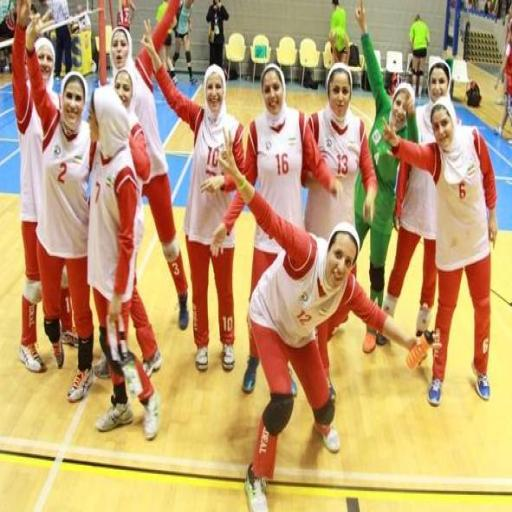person: (221, 134, 417, 510), (383, 96, 497, 405), (143, 24, 244, 371), (26, 14, 93, 401), (88, 86, 160, 439), (111, 27, 188, 329), (356, 0, 417, 305), (245, 65, 342, 227), (305, 64, 376, 238), (13, 3, 45, 372), (383, 166, 436, 334), (114, 69, 150, 252), (173, 0, 196, 84), (49, 0, 71, 77), (409, 15, 429, 97), (495, 35, 511, 136), (207, 0, 228, 68), (329, 0, 349, 64), (159, 28, 177, 84), (117, 0, 136, 31)
